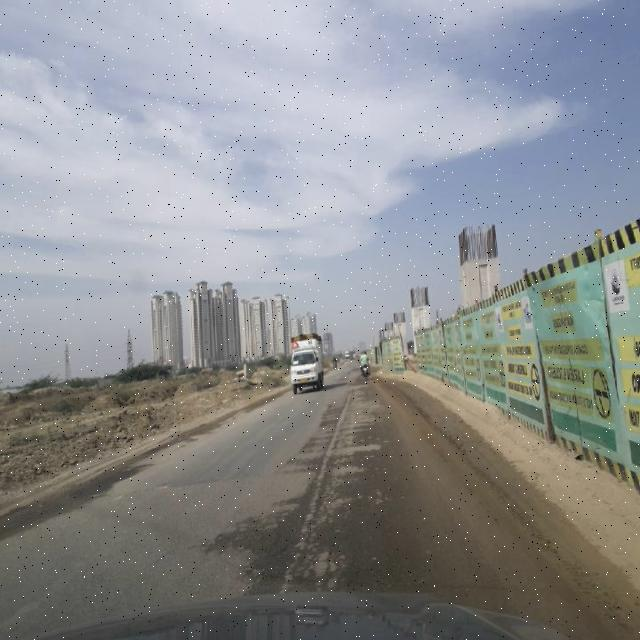D20: (231, 393, 421, 596)
